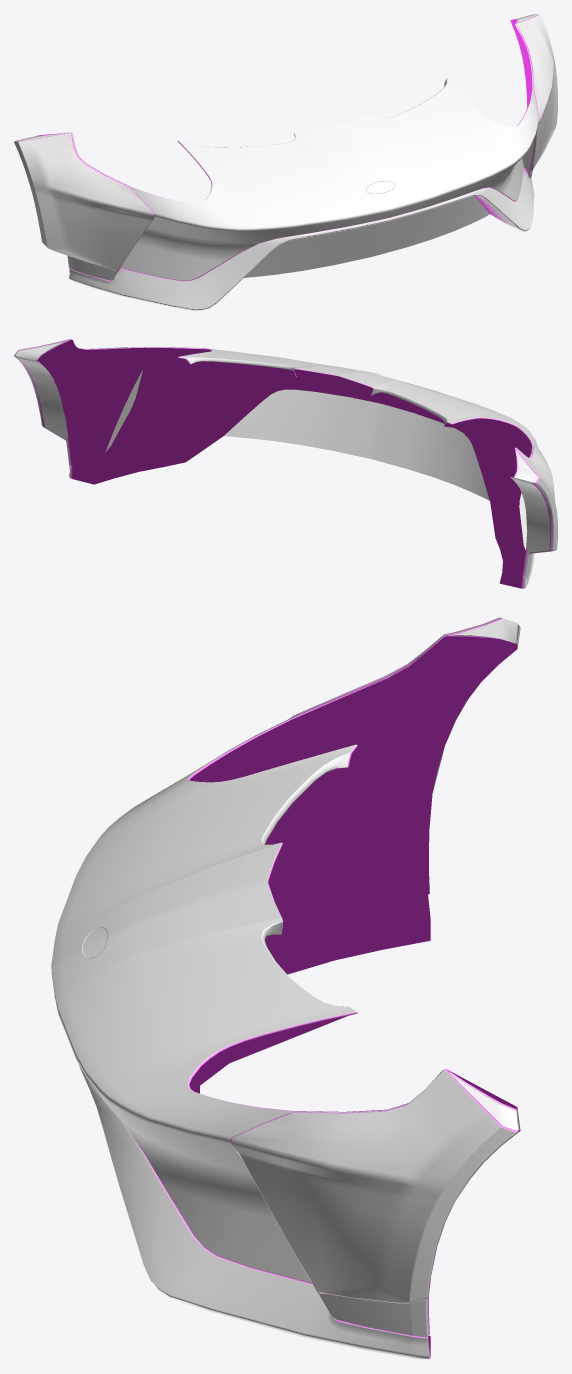
File: Car_Ford_GT_2017_BumperF_SetE_AltA.fbx
The picture shows the model from 3 angles, top to bottom: view 1: azimuth 30°, elevation 25°; view 2: azimuth 150°, elevation 25°; view 3: azimuth 270°, elevation 25°; orthographic projection. The views are drawn at different scales.
Parts seen in each view (by area): view 1: BumperF 6; view 2: BumperF 6; view 3: BumperF 6.
Part boxes in pixels (x1=…): BumperF 6: x1=14, y1=14, x2=557, y2=310; BumperF 6: x1=14, y1=339, x2=557, y2=588; BumperF 6: x1=51, y1=617, x2=520, y2=1359.
Size of the model in its own units: 2.14 by 0.5584 by 0.8296.
